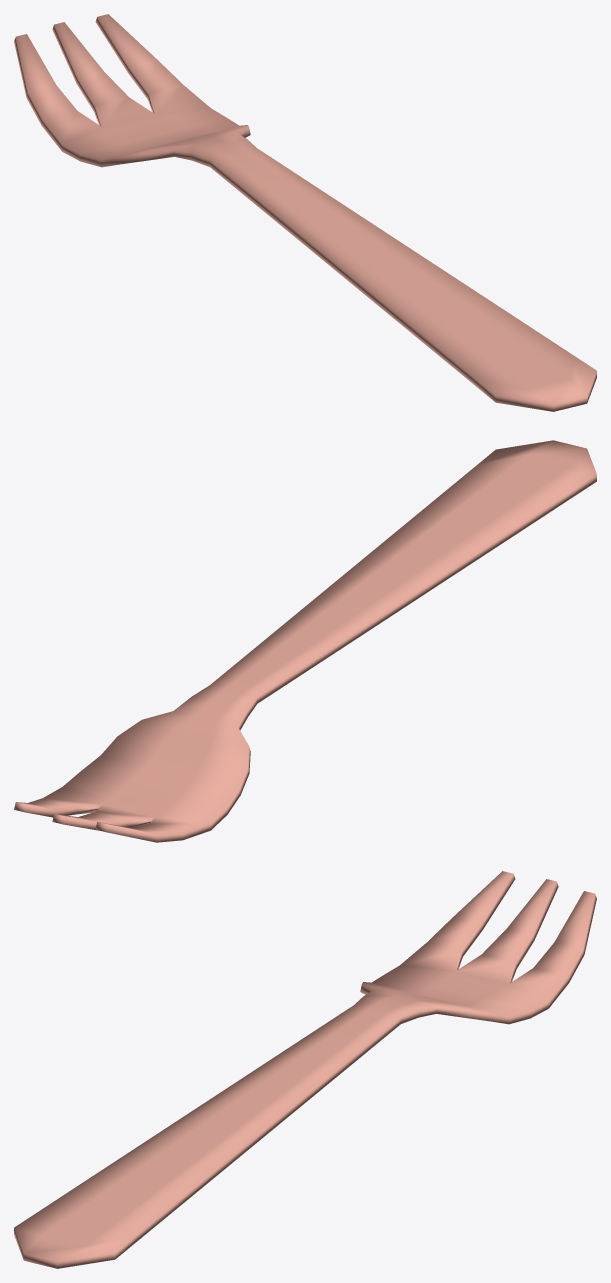
File: Fork.fbx
3 views of the same model, one above another, from view 1: azimuth 30°, elevation 25°; view 2: azimuth 150°, elevation 25°; view 3: azimuth 330°, elevation 25° (orthographic).
Parts seen in each view (by area): view 1: Fork; view 2: Fork; view 3: Fork.
Part boxes in pixels (bbox=[...]): Fork: bbox=[14, 14, 596, 411]; Fork: bbox=[14, 440, 596, 842]; Fork: bbox=[14, 871, 596, 1268].
Size of the model in its own units: 10.63 by 3.67 by 63.45.
